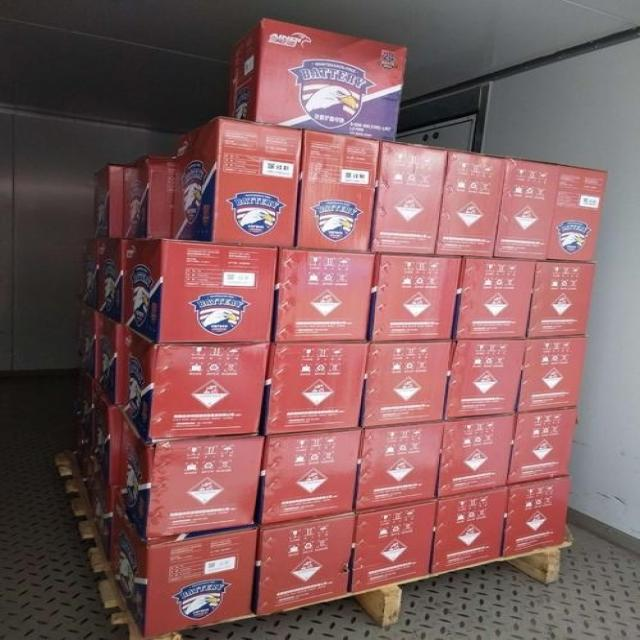box: (228, 17, 408, 141), (108, 490, 256, 638), (115, 408, 264, 538), (118, 325, 271, 446), (170, 115, 302, 248), (122, 238, 278, 344), (293, 129, 380, 252), (251, 512, 355, 614), (256, 427, 362, 526), (271, 247, 375, 344), (259, 344, 369, 435), (369, 138, 447, 254), (366, 253, 463, 344), (357, 341, 453, 427), (348, 500, 436, 593), (355, 422, 444, 512), (435, 150, 506, 257), (452, 255, 536, 341), (494, 156, 561, 260), (436, 414, 517, 500), (430, 486, 507, 574), (444, 340, 526, 422), (547, 164, 607, 261), (502, 475, 572, 557), (526, 260, 595, 340), (517, 337, 586, 414), (508, 409, 576, 485), (122, 153, 175, 239), (84, 457, 115, 563), (91, 382, 119, 491), (97, 237, 129, 325), (96, 312, 122, 408), (91, 162, 123, 238), (72, 365, 95, 457), (77, 301, 97, 382), (70, 420, 91, 490), (81, 237, 99, 311)
